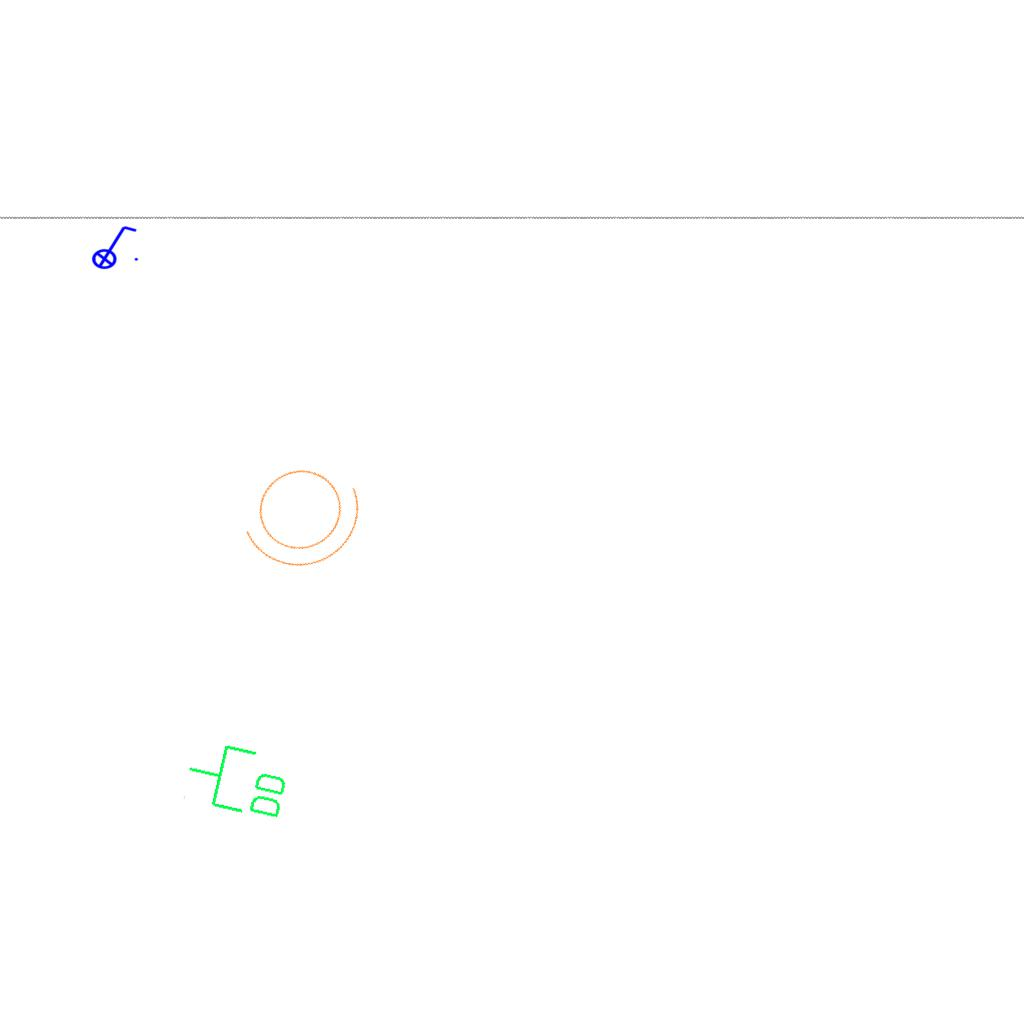Ausschalter_beleuchtet: (85, 222, 141, 270)
Datenanschluss_zweifach: (179, 735, 296, 826)
Scheinwerfer_fuer_Alarmbeleuchtung: (222, 436, 388, 590)
